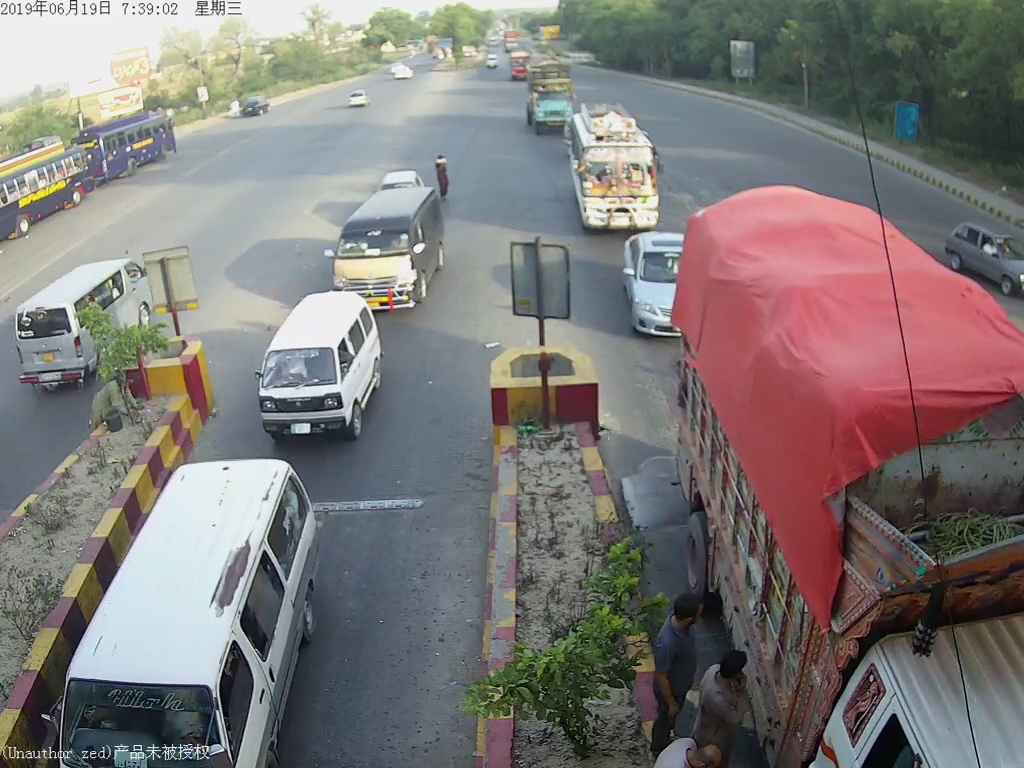Cat-1: (254, 293, 381, 436), (619, 230, 694, 341)
Cat-2: (325, 180, 444, 308)
Cat-3: (565, 105, 672, 233)
Cat-4: (523, 55, 574, 134)
